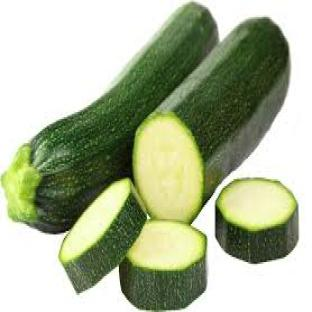Zucchini: (3, 2, 217, 232), (133, 18, 289, 222), (60, 180, 145, 293), (119, 221, 206, 310), (216, 180, 298, 263)
